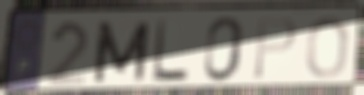0: (202, 16, 247, 85)
2: (46, 19, 91, 87)
L: (149, 17, 192, 85)
M: (90, 19, 153, 85)
O: (304, 15, 352, 81)
P: (251, 15, 300, 82)
